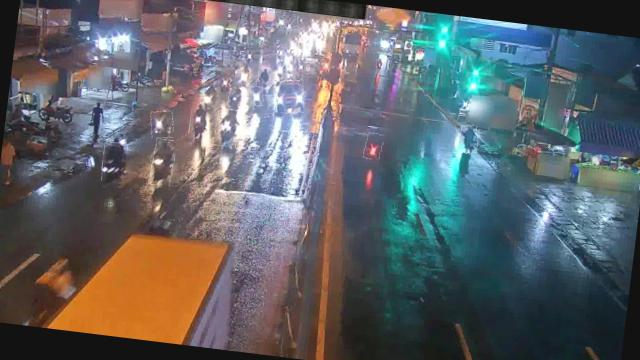Bike: (148, 138, 176, 187), (99, 142, 128, 184), (214, 108, 242, 149), (148, 109, 174, 140), (188, 102, 210, 138), (459, 124, 479, 154), (362, 132, 382, 160), (248, 85, 264, 106), (228, 86, 242, 108), (257, 68, 271, 85)
Car: (270, 78, 306, 115)
